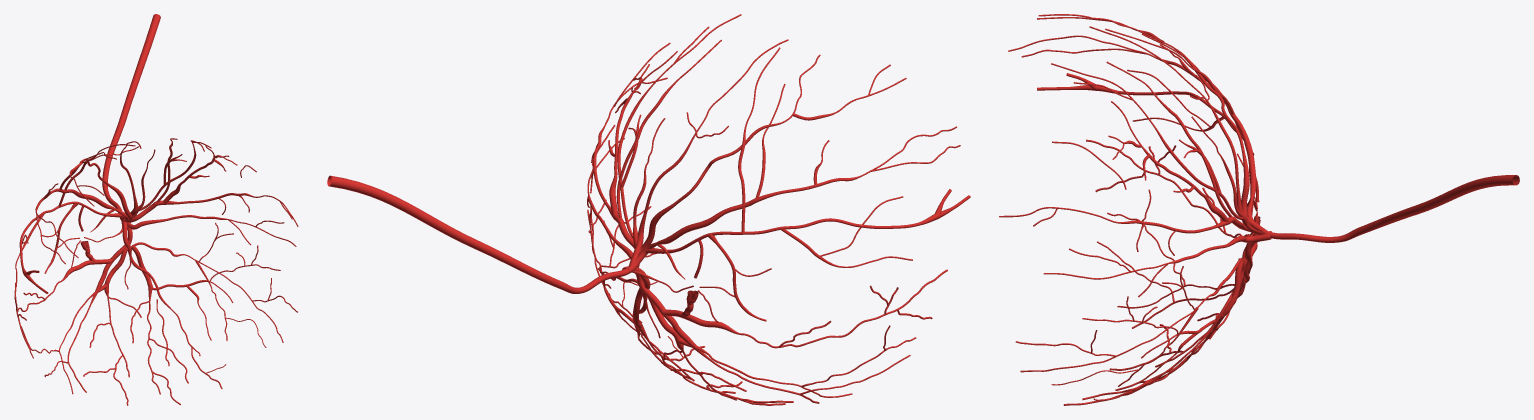
File: circulatorio-central-retinal-artery-r.glb
The picture shows the model from 3 angles, left to right: view 1: azimuth 30°, elevation 25°; view 2: azimuth 150°, elevation 25°; view 3: azimuth 270°, elevation 25°; orthographic projection. The views are drawn at different scales.
Parts seen in each view (by area): view 1: Central retinal artery.r; view 2: Central retinal artery.r; view 3: Central retinal artery.r.
Boxes of the visible parts, x1,y1,x2,y2 form: Central retinal artery.r: (14, 14, 298, 405); Central retinal artery.r: (327, 14, 970, 405); Central retinal artery.r: (999, 14, 1519, 405).
Size of the model in its own units: 0.0295 by 0.0251 by 0.0339.
